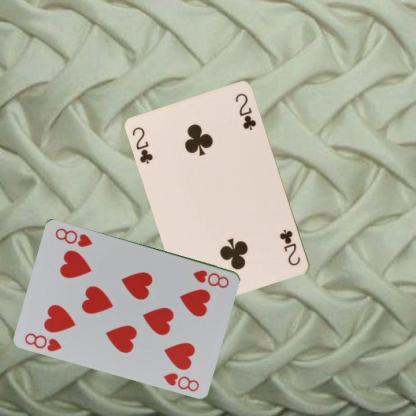2c: (130, 124, 155, 165), (278, 227, 302, 267)
8h: (22, 330, 64, 352), (191, 267, 231, 289)
